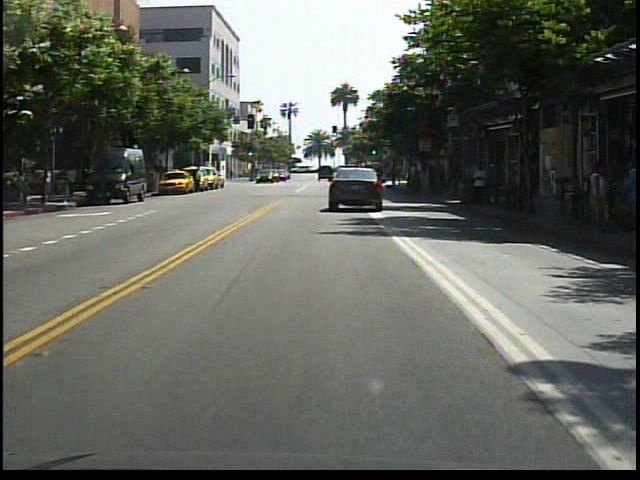person: (469, 162, 494, 216), (193, 162, 206, 196)
